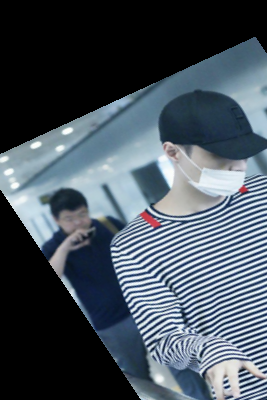mask_weared_incorrect: (145, 86, 267, 221)
